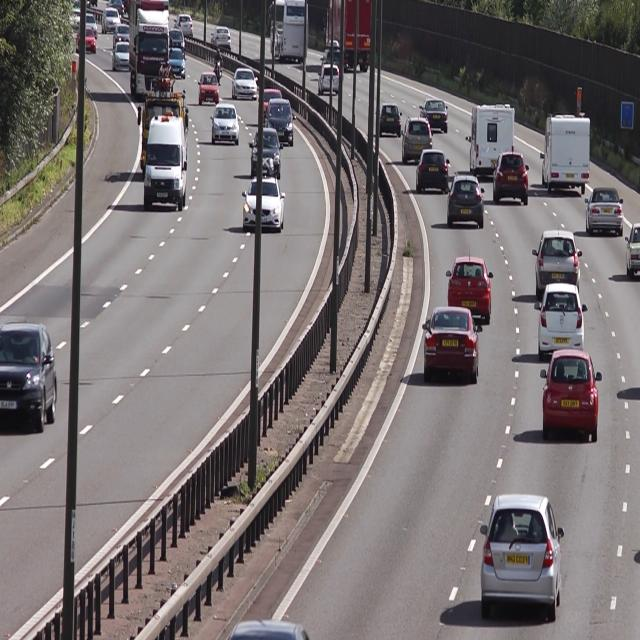Car: (479, 493, 567, 615), (539, 344, 605, 442), (0, 320, 56, 432), (419, 305, 485, 389), (540, 108, 591, 196), (534, 284, 588, 362), (144, 116, 186, 210), (446, 250, 498, 325), (532, 226, 584, 300), (129, 3, 169, 94), (467, 102, 515, 174), (241, 159, 285, 233), (584, 186, 624, 242), (445, 175, 484, 228), (415, 146, 449, 200), (493, 155, 527, 208), (250, 127, 280, 179), (401, 116, 432, 164), (418, 93, 452, 131), (265, 100, 291, 146), (209, 105, 239, 142), (231, 61, 256, 101), (377, 103, 402, 141), (198, 71, 218, 105)
